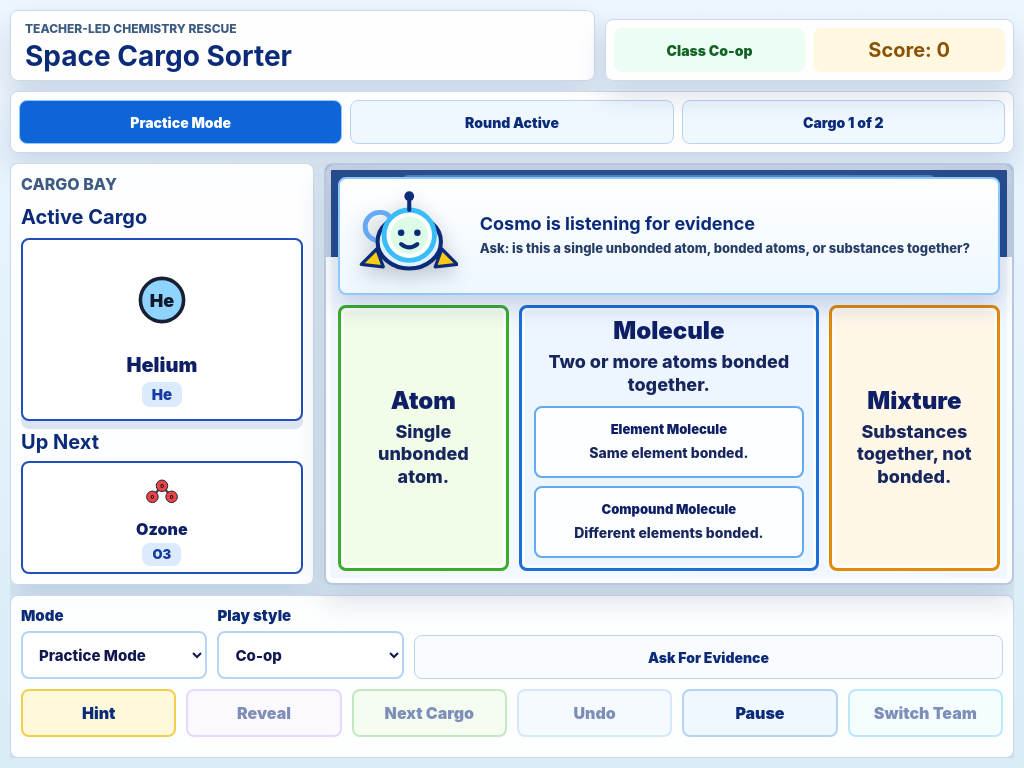
MissionBoard › shows Cosmo coach, clock, and progress HUD in Rescue Rush
Select "Rescue Rush" in the dropdown labelled "Mode" at (114, 655), box [21,631,208,679]
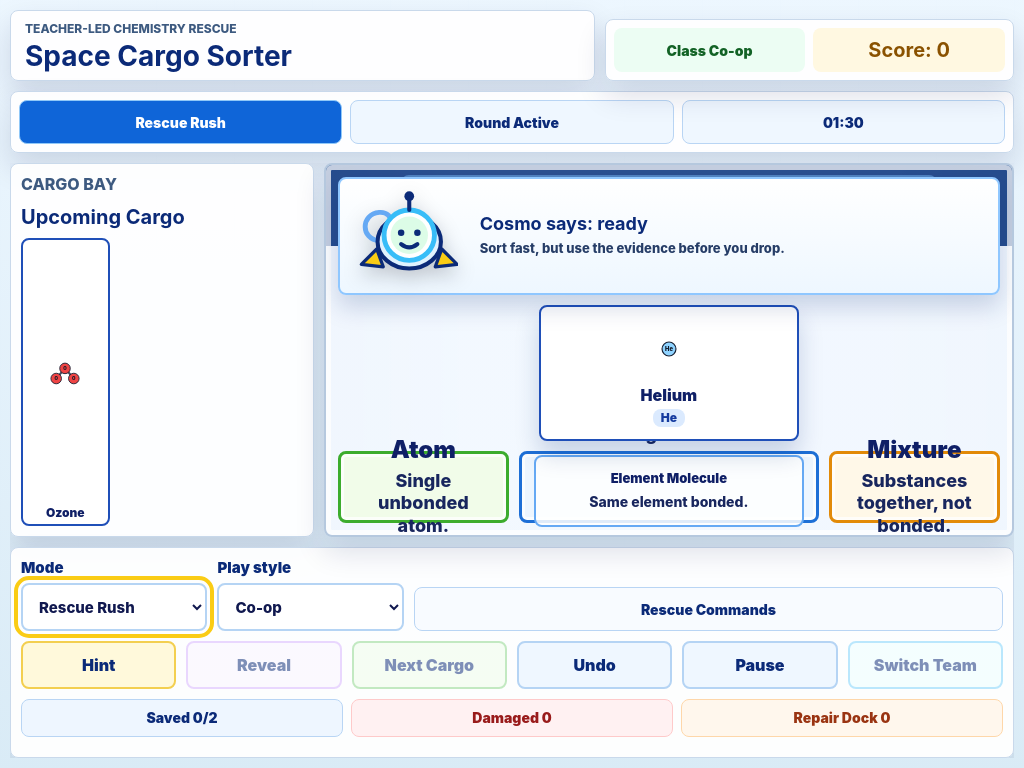
Result: the text named "Mission clock" reads "01:30" at [823,114,864,130]
Result: the heading "Upcoming Cargo" is shown at [21,205,185,229]
Result: the element named "Cosmo coach" shows "Cosmo says: ready" at [480,213,648,234]
Click the button with aria-label "Drop Helium into Mixture" at (914, 487), box [829,451,1000,523]
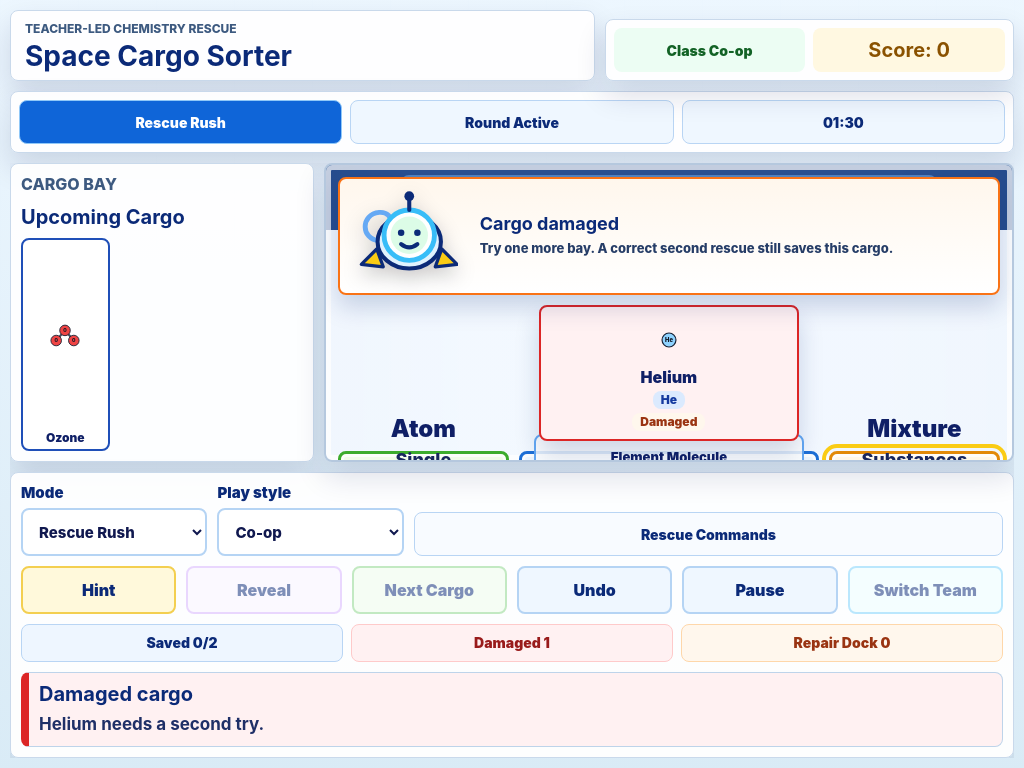
Result: the element named "Cosmo coach" shows "Cargo damaged" at [480,213,619,234]
Result: the text "Damaged 1" is shown at [351,624,673,662]
